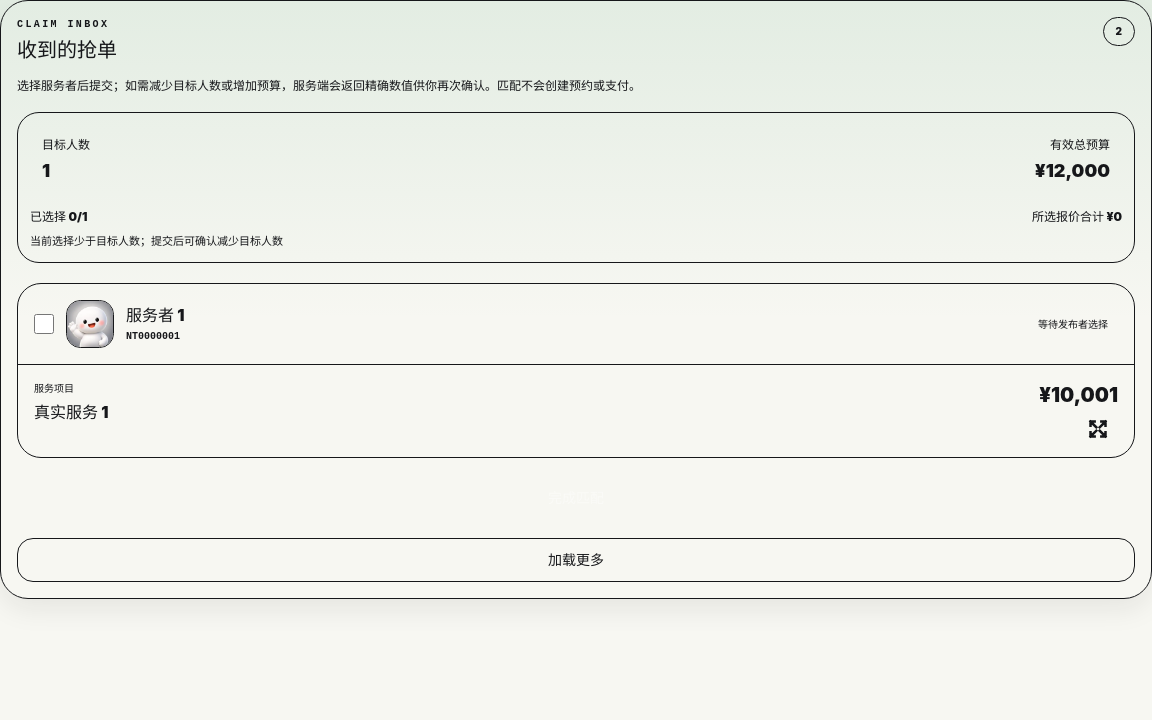
Test case: ExchangeReceivedClaims › appends the next server page without replacing existing claims
Click the button "加载更多".
click(576, 560)  # box [17,538,1135,582]
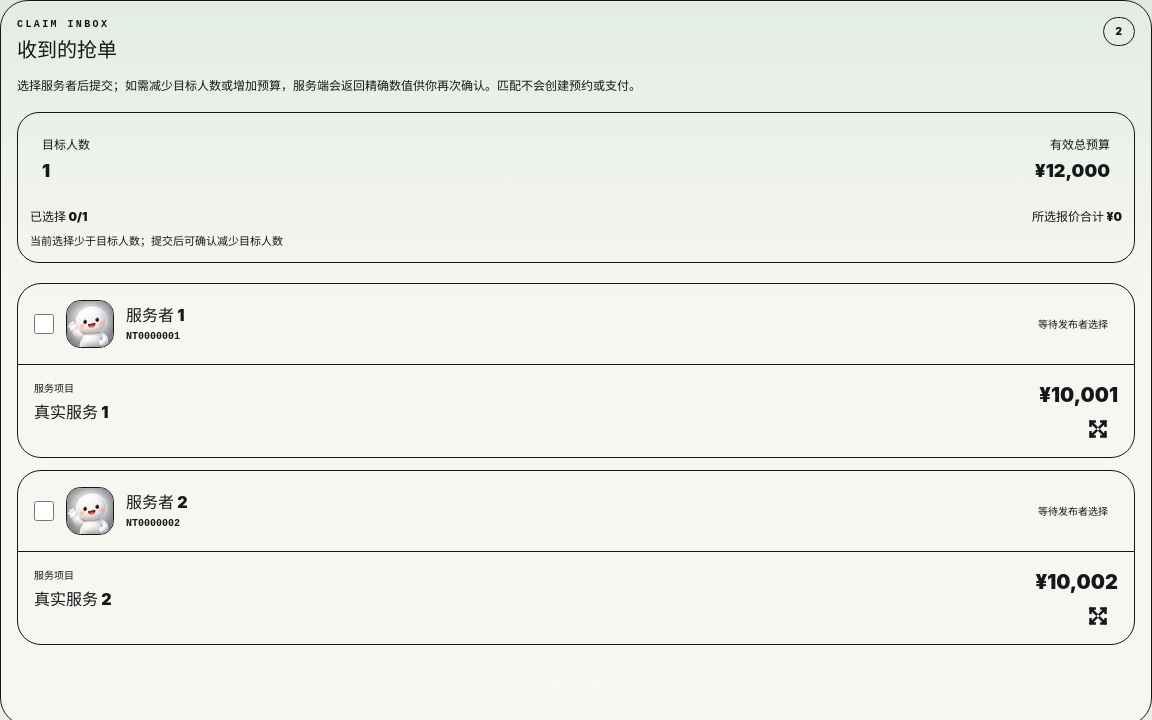
Expected: the text "服务者 1" is shown, [126,305,184,325]
Expected: the text "服务者 2" is shown, [126,492,188,512]
